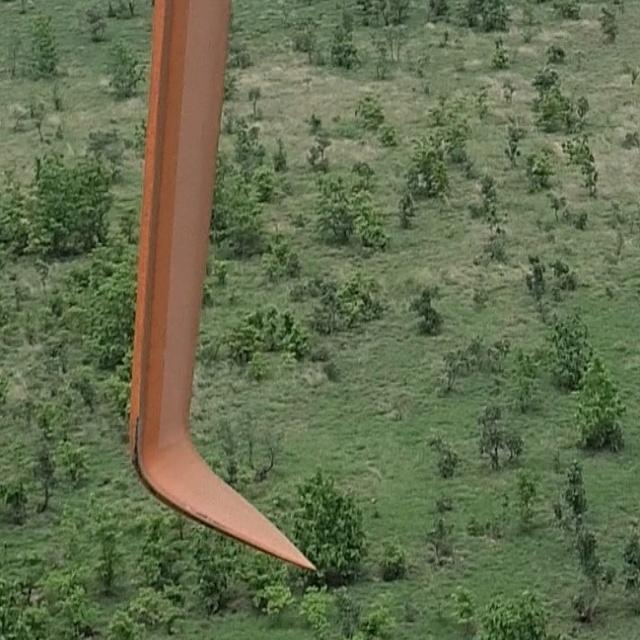EROSION: (116, 419, 177, 532)
